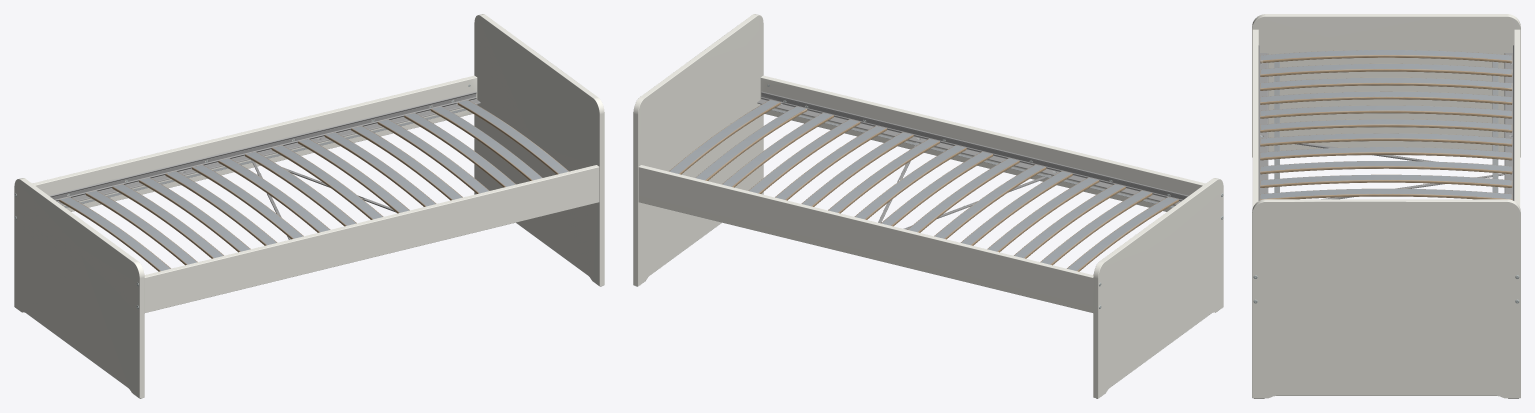
File: slakt_rama_ozka_z_dnem_z_listew_79227755.glb
The picture shows the model from 3 angles, left to right: view 1: azimuth 30°, elevation 25°; view 2: azimuth 150°, elevation 25°; view 3: azimuth 270°, elevation 25°; orthographic projection. The views are drawn at different scales.
Visible parts, largest first — view 1: slakt_rama_ozka_z_dnem_z_listew_79227755; view 2: slakt_rama_ozka_z_dnem_z_listew_79227755; view 3: slakt_rama_ozka_z_dnem_z_listew_79227755.
Part boxes in pixels (box(x1,y1,x2,y2)): slakt_rama_ozka_z_dnem_z_listew_79227755: box(14, 14, 604, 398); slakt_rama_ozka_z_dnem_z_listew_79227755: box(633, 14, 1223, 398); slakt_rama_ozka_z_dnem_z_listew_79227755: box(1252, 14, 1520, 398).
Size of the model in its own units: 2.06 by 0.7801 by 0.959.
2 materials, 1 textured.
